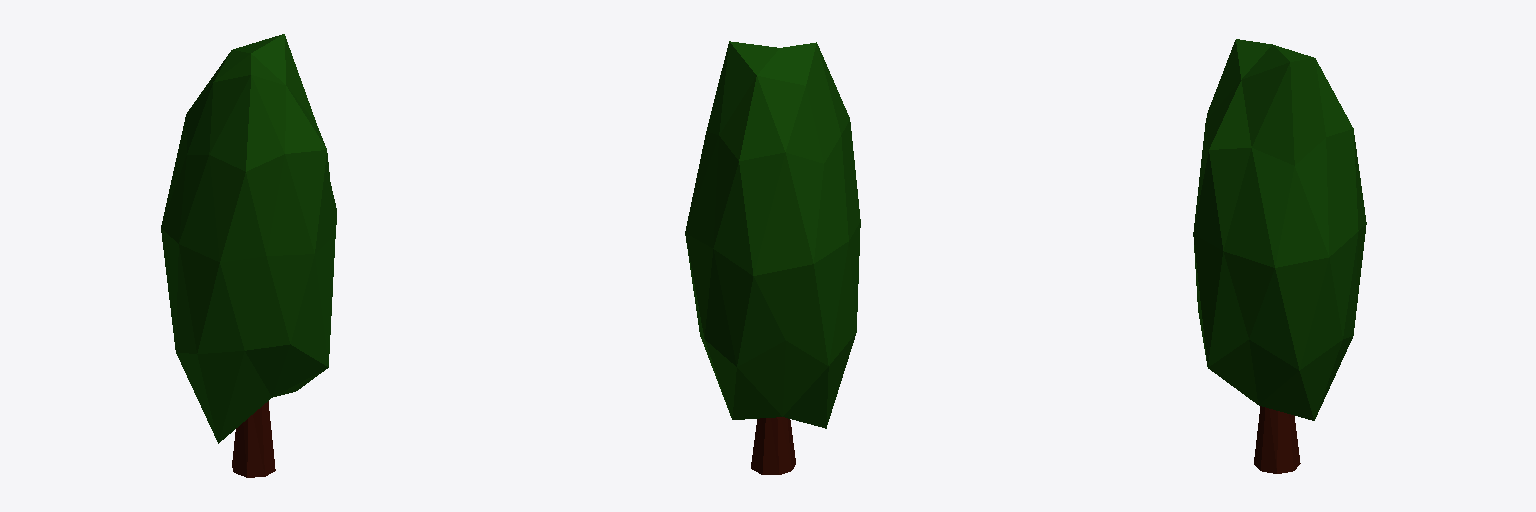
3 renders of one model, left to right at view 1: azimuth 30°, elevation 25°; view 2: azimuth 150°, elevation 25°; view 3: azimuth 270°, elevation 25°, orthographic.
Visible parts, largest first — view 1: Tree_05_summer_mat_Cylinder.006; view 2: Tree_05_summer_mat_Cylinder.006; view 3: Tree_05_summer_mat_Cylinder.006.
Boxes of the visible parts, <box> form: Tree_05_summer_mat_Cylinder.006: <box>161,34,336,477</box>; Tree_05_summer_mat_Cylinder.006: <box>685,41,860,474</box>; Tree_05_summer_mat_Cylinder.006: <box>1193,39,1366,473</box>.
Size of the model in its own units: 4.18 by 10.63 by 3.97.